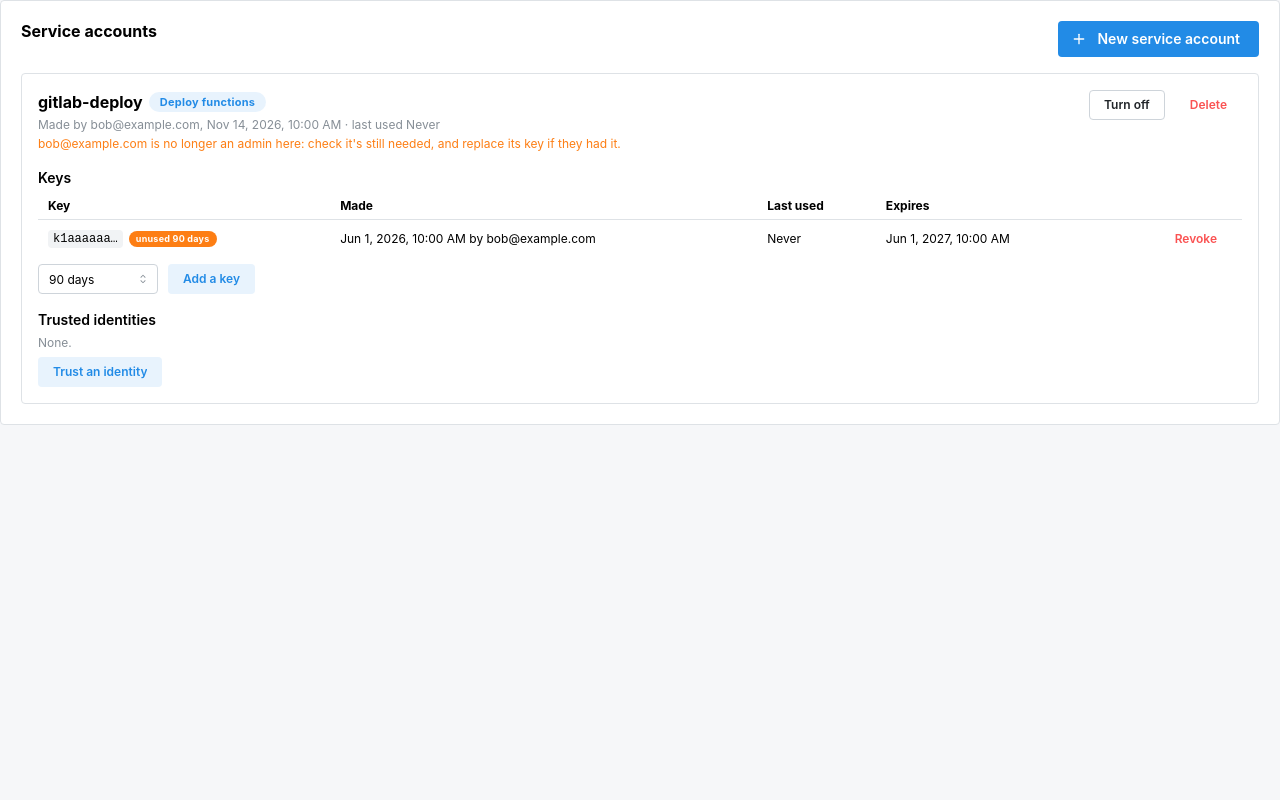
Test case: an account shows its role or scopes, flags a maker who's no longer an admin and an unused key, and a new key is shown once
This screenshot has width=1280, height=800.
Check: the text "gitlab-deploy" is shown, box [38,90,143,115]
Check: the text "Deploy functions" is shown, box [160,93,255,111]
Click the button "Add a key".
click(212, 279)  # box [168,264,255,294]
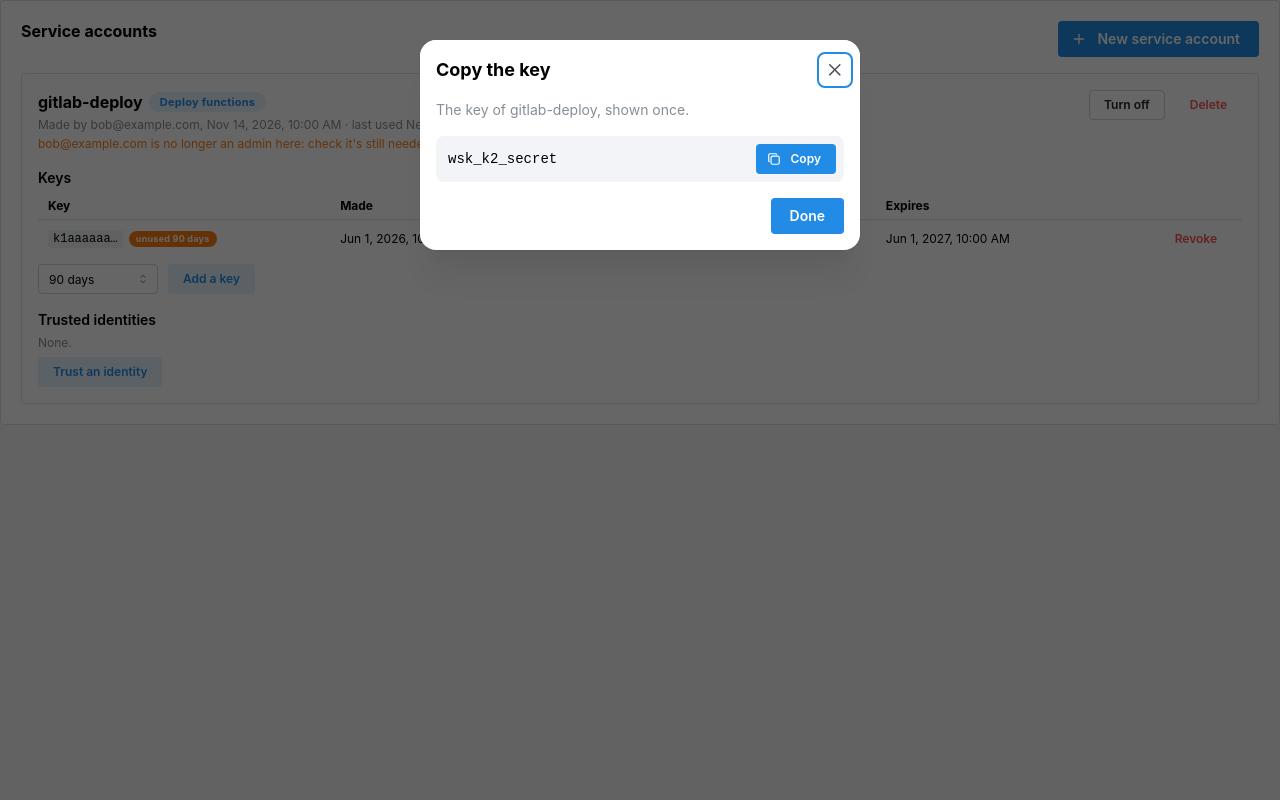
Check: the text with test id "service-account-secret" reads "wsk_k2_secret", box [448,151,557,167]
